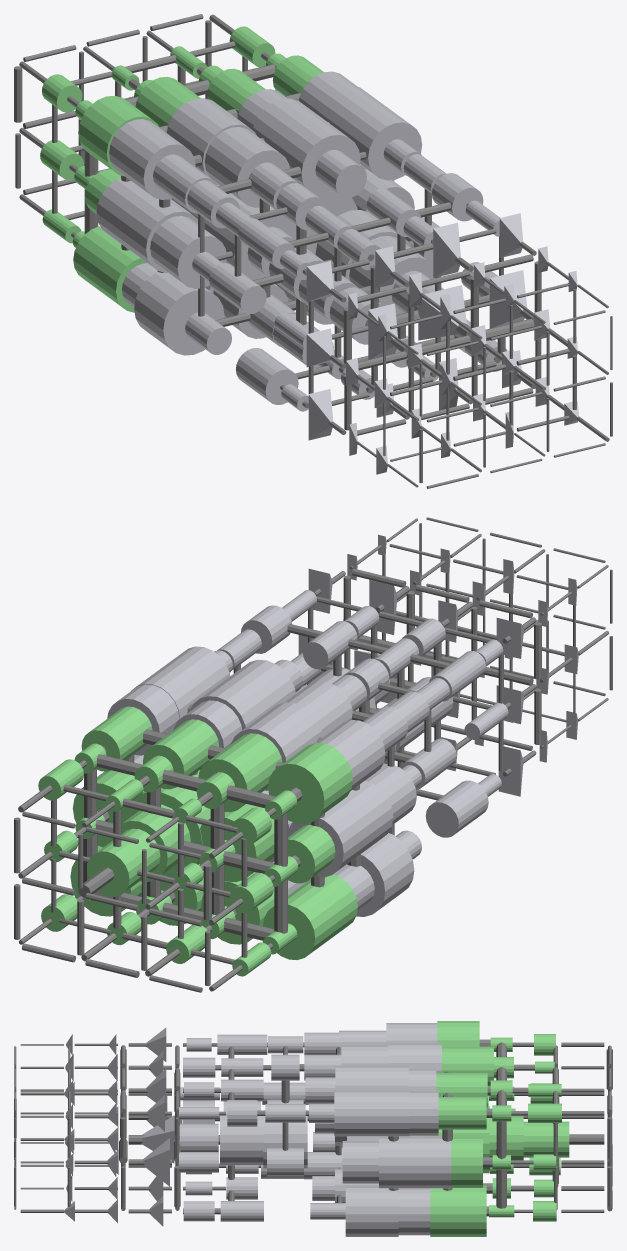
File: racer_spaceship.glb
3 views of the same model, one above another, from view 1: azimuth 30°, elevation 25°; view 2: azimuth 150°, elevation 25°; view 3: azimuth 270°, elevation 25° (orthographic). The views are drawn at different scales.
Visible parts, largest first — view 1: world; view 2: world; view 3: world.
Boxes of the visible parts, <box> form: world: <box>14,14,612,488</box>; world: <box>14,517,612,992</box>; world: <box>14,1021,612,1236</box>.
Bounding box in the file's own units: 5.95 × 4.42 × 16.62.
